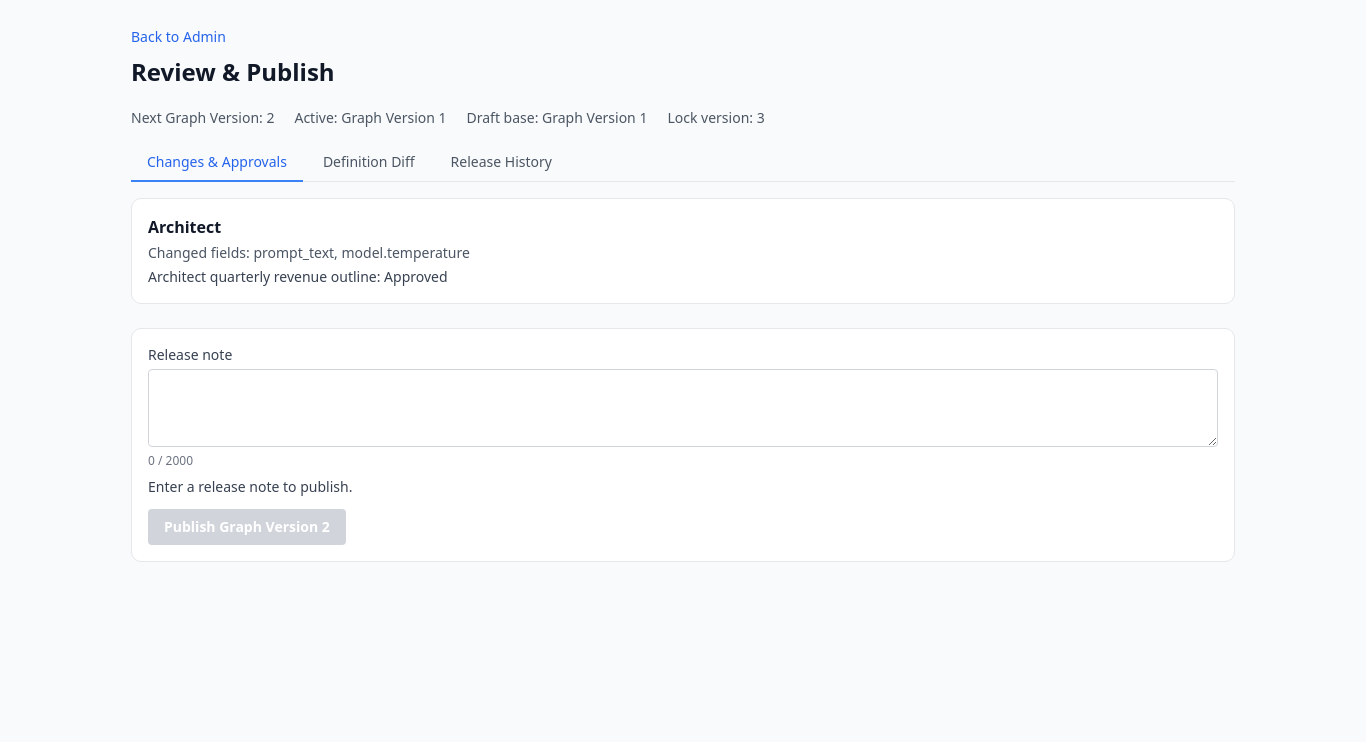
Test: Release History: the rollback preview › shows endpoint warnings without blocking (Correction 2)
Expected: the text "Next Graph Version: 2" is shown, [131,108,274,128]
Click the tab with test id "release-history-tab". click: (501, 163)
box: [435,144,568,182]
(page scrolled)
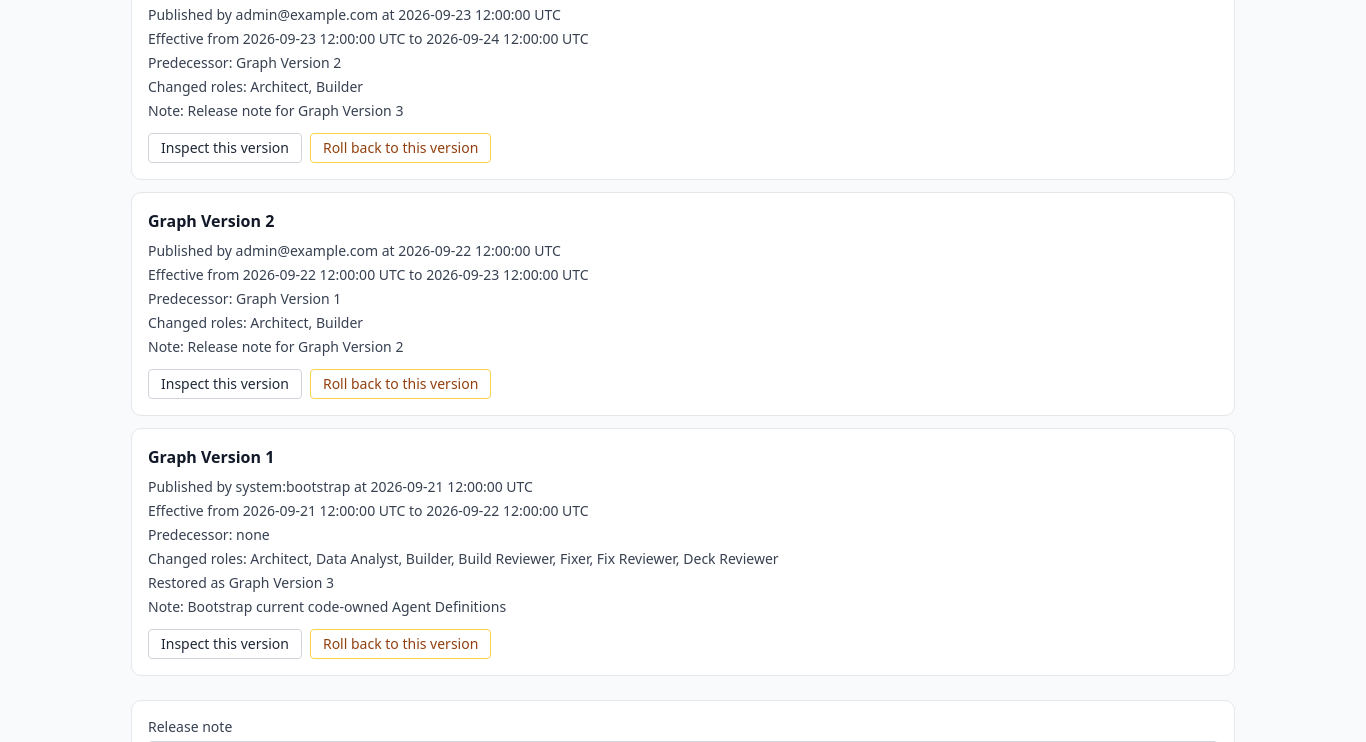
Click the button "Roll back to this version" below "Predecessor: Graph Version 1". click: (401, 384)
box: [310,369,491,399]
(page scrolled)
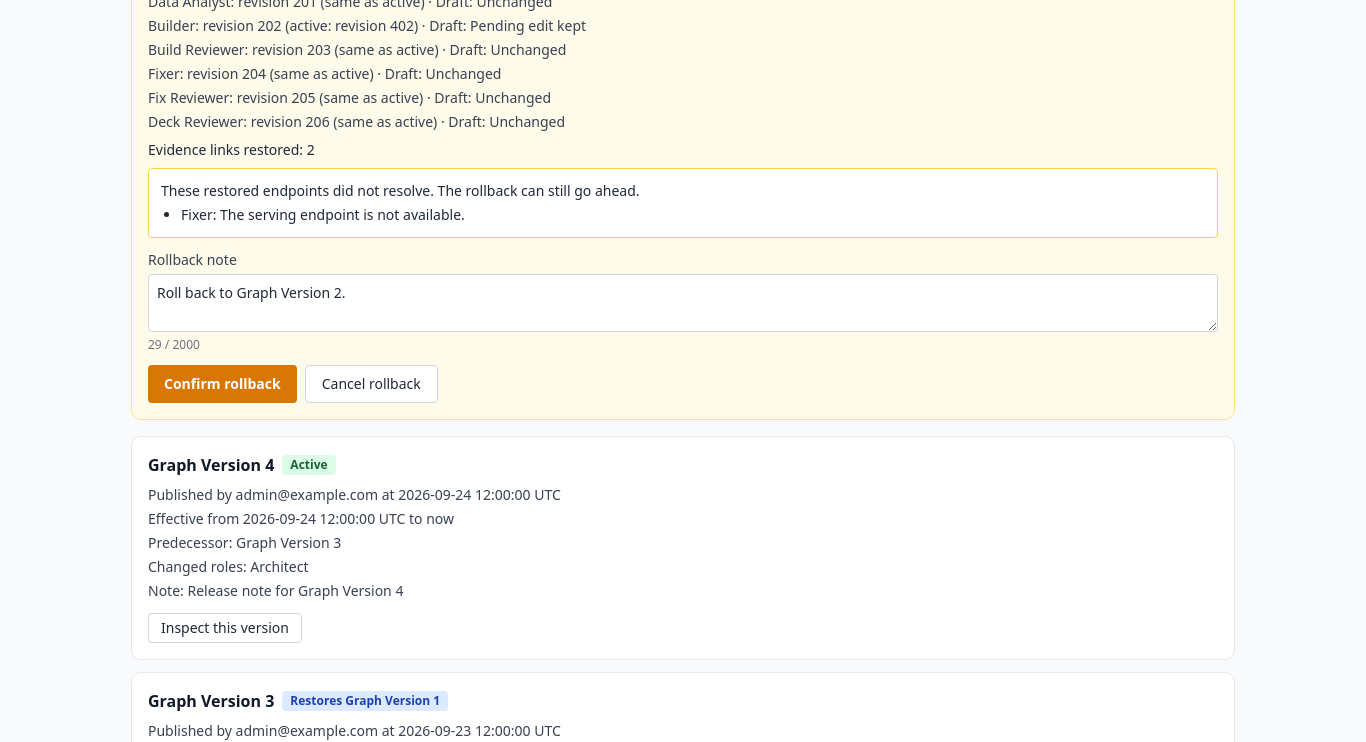
Now the element with test id "rollback-warnings" shows "Fixer: The serving endpoint is not available.", box [181,205,465,224]
Now the button with test id "rollback-confirm-button" is enabled, box [148,365,297,403]
